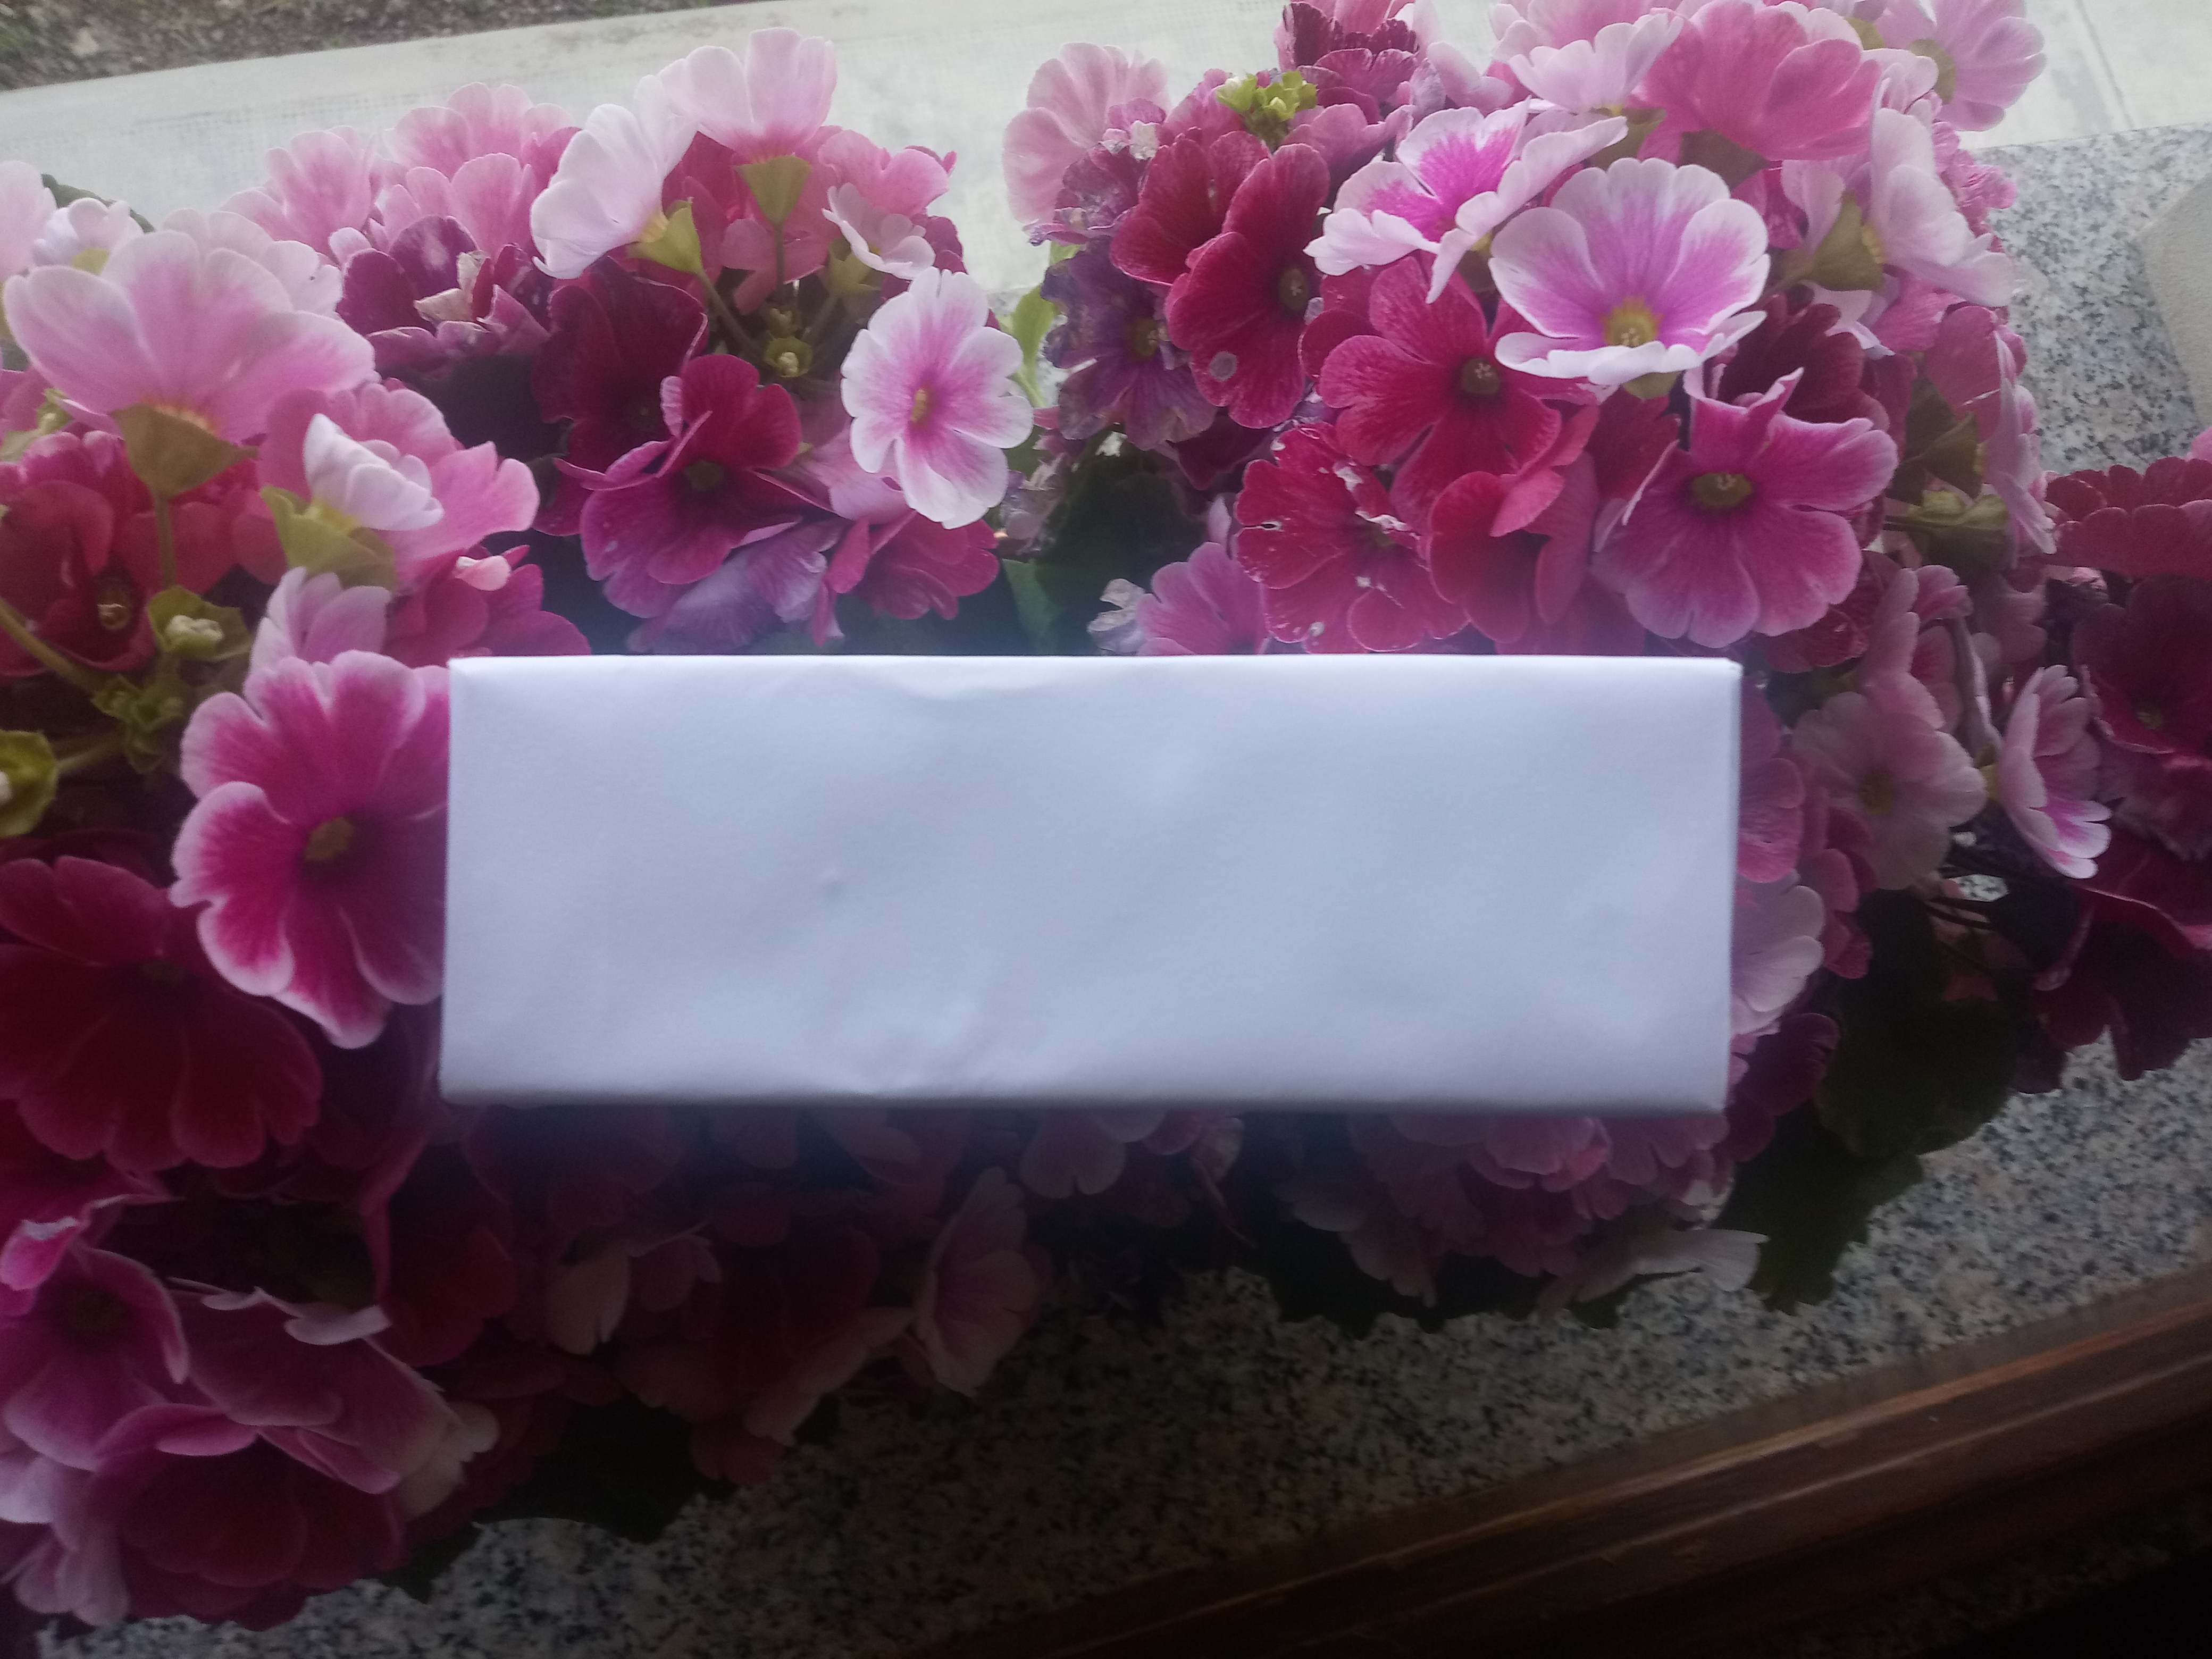white_box: (406, 631, 1756, 1140)
